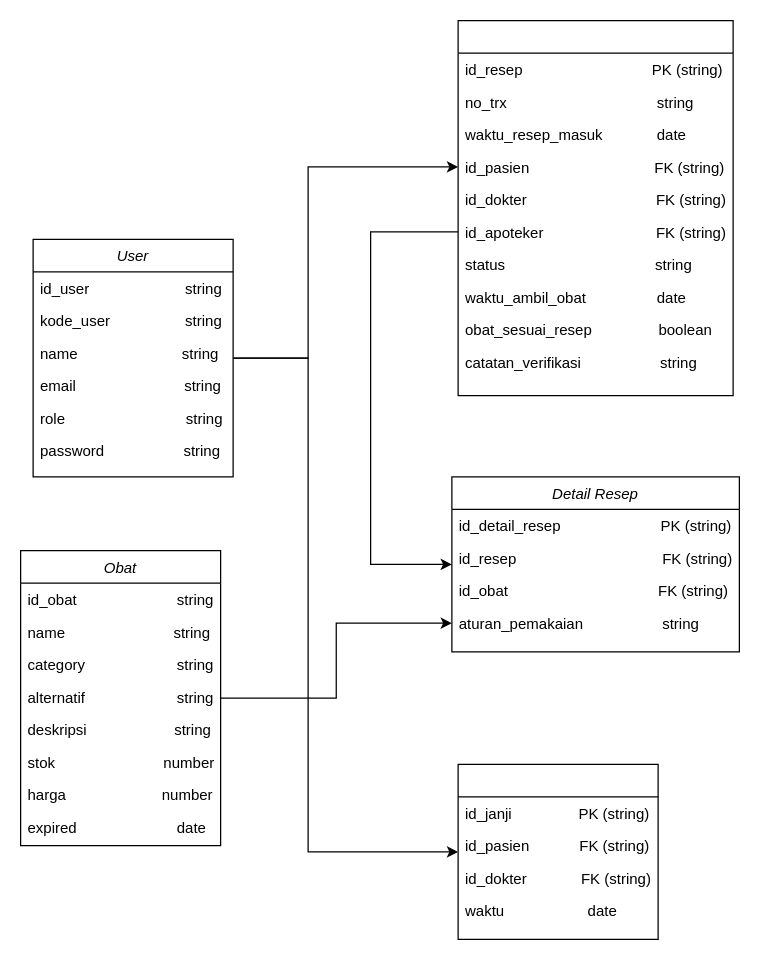
Some shapes in this 760 by 960 pixel diagram are drawn without their labels. Each missing label, with the box of its shape:
Janji Dokter: (457, 763, 658, 939)
Resep Dokter: (457, 19, 733, 396)
